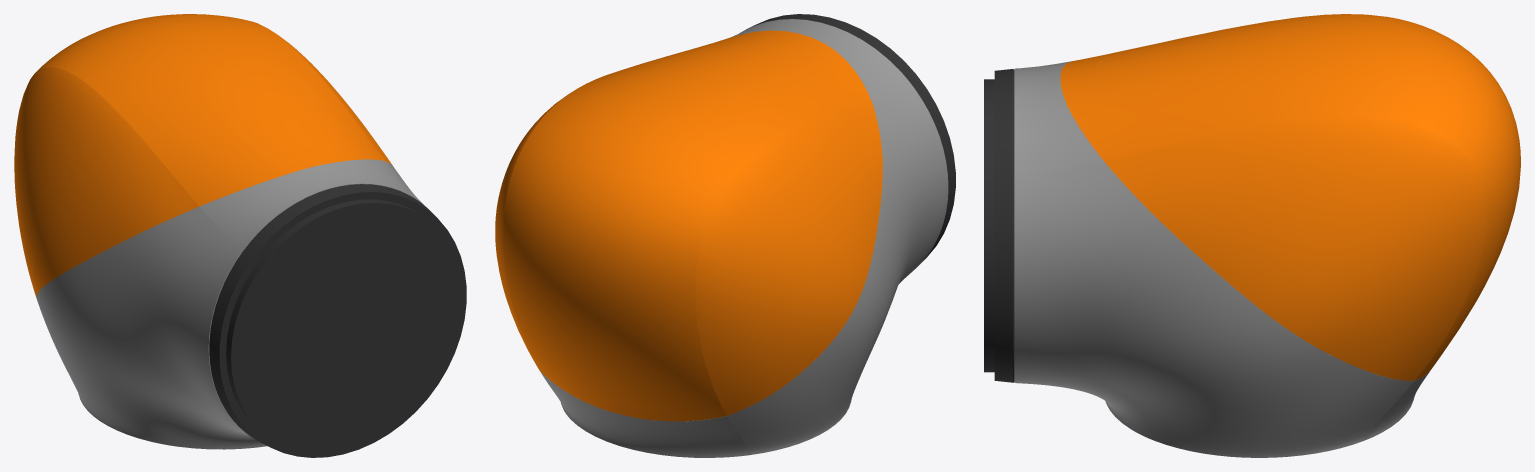
3 views of the same model, side by side, from view 1: azimuth 30°, elevation 25°; view 2: azimuth 150°, elevation 25°; view 3: azimuth 270°, elevation 25° (orthographic). The views are drawn at different scales.
Parts seen in each view (by area): view 1: link_6; view 2: link_6; view 3: link_6.
Boxes of the visible parts, left/top/right/bottom form: link_6: left=14, top=14, right=466, bottom=457; link_6: left=495, top=14, right=955, bottom=457; link_6: left=984, top=14, right=1520, bottom=457.
Size of the model in its own units: 0.1323 by 0.1376 by 0.1775.
